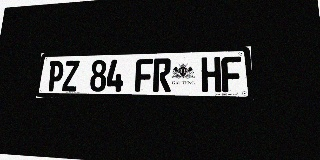4: (106, 59, 124, 92)
8: (89, 60, 107, 92)
F: (221, 56, 242, 92), (135, 59, 153, 92)
H: (201, 57, 221, 92)
P: (46, 61, 64, 91)
R: (153, 58, 171, 92)
Z: (62, 60, 80, 91)
